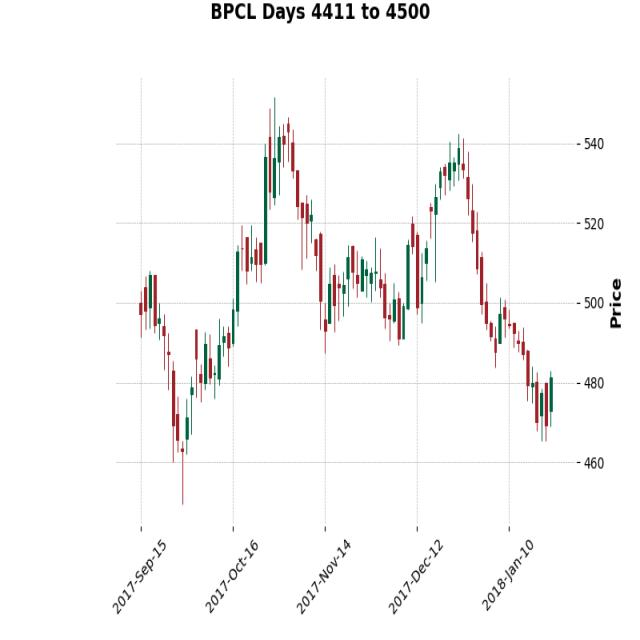Double Top: (229, 94, 486, 340)
